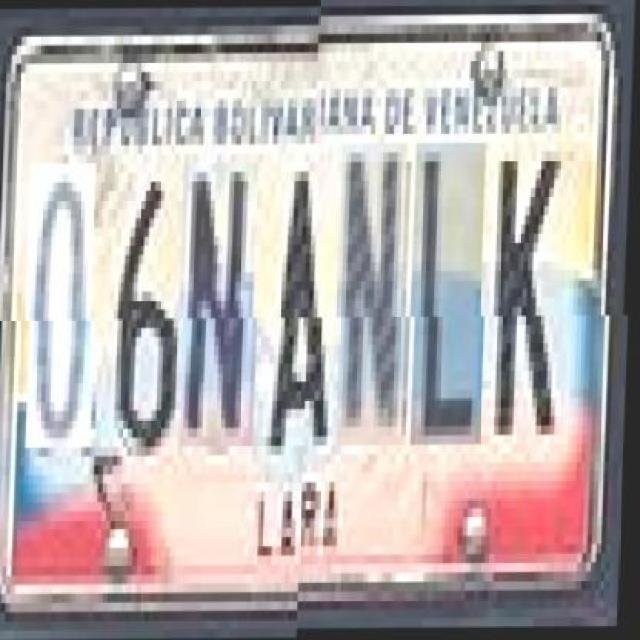0: (339, 153, 413, 456)
e: (182, 162, 264, 447)
l: (413, 152, 492, 456)
n: (182, 162, 264, 447), (339, 153, 413, 456)
o: (413, 152, 492, 456), (28, 165, 102, 448)
